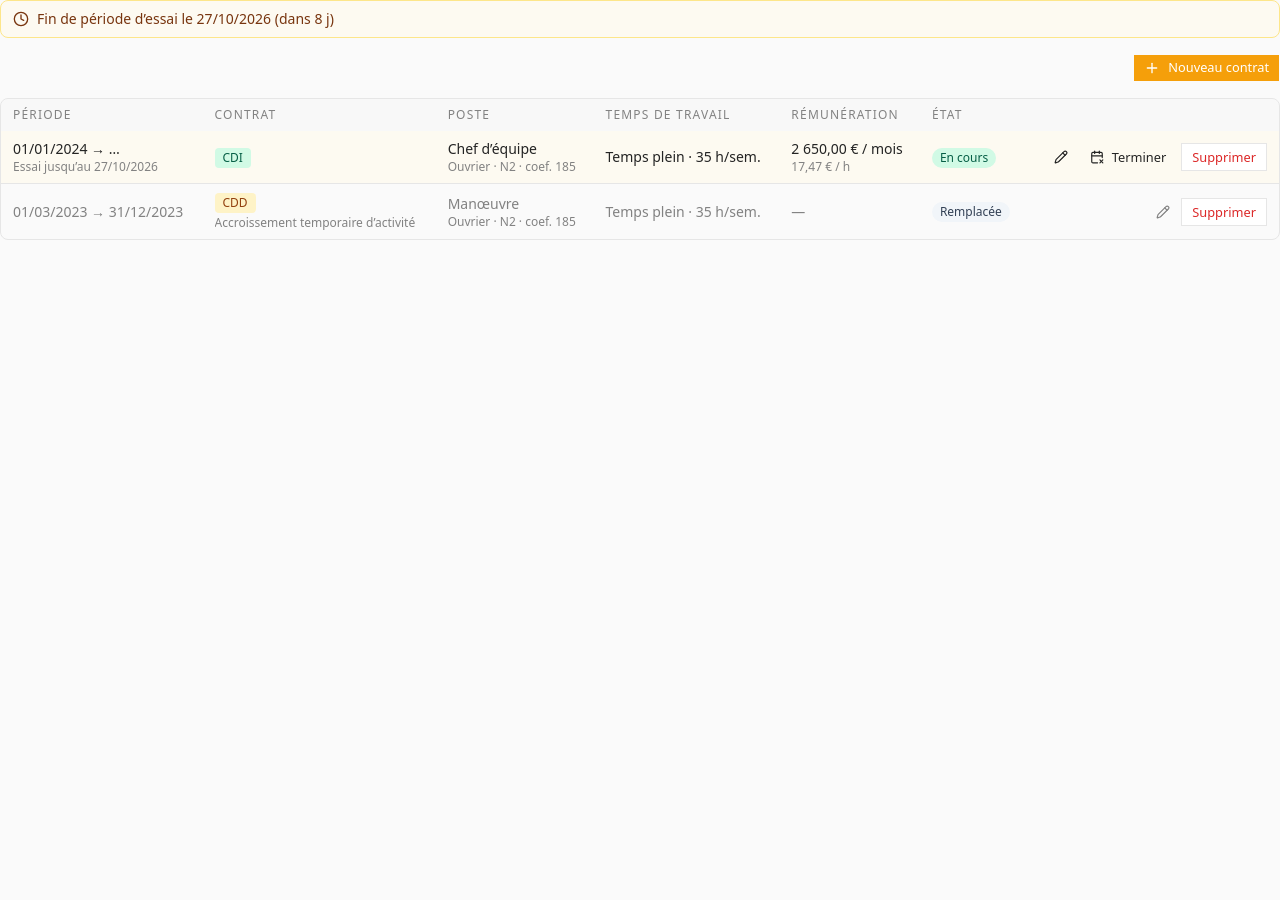
Scenario: ContratsSection › pré-remplit depuis la fiche RH
This screenshot has width=1280, height=900.
Click the button "Nouveau contrat".
click(1207, 68)  # box [1133, 54, 1279, 82]
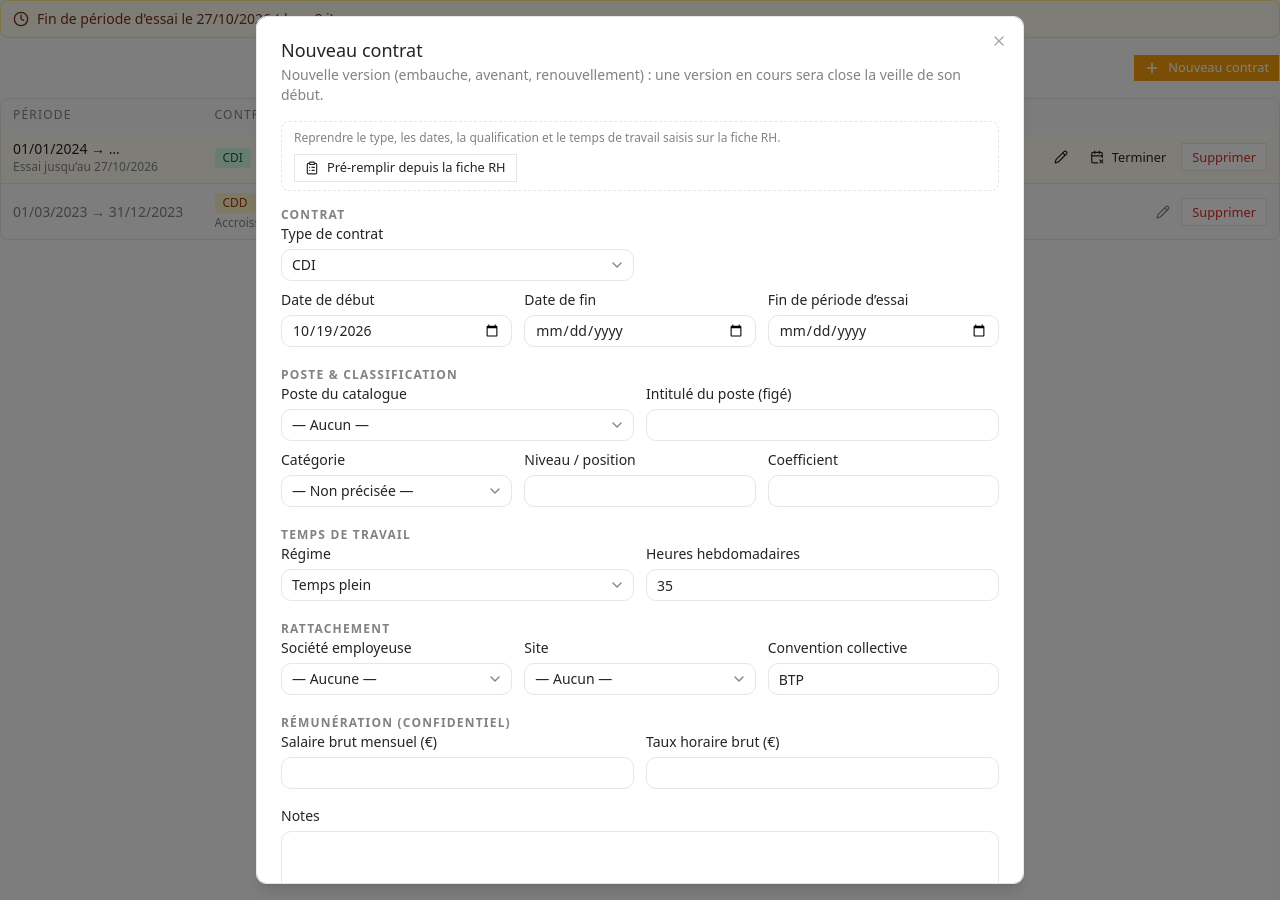
Click the button "Pré-remplir depuis la fiche RH".
click(405, 168)  # box [294, 154, 517, 182]
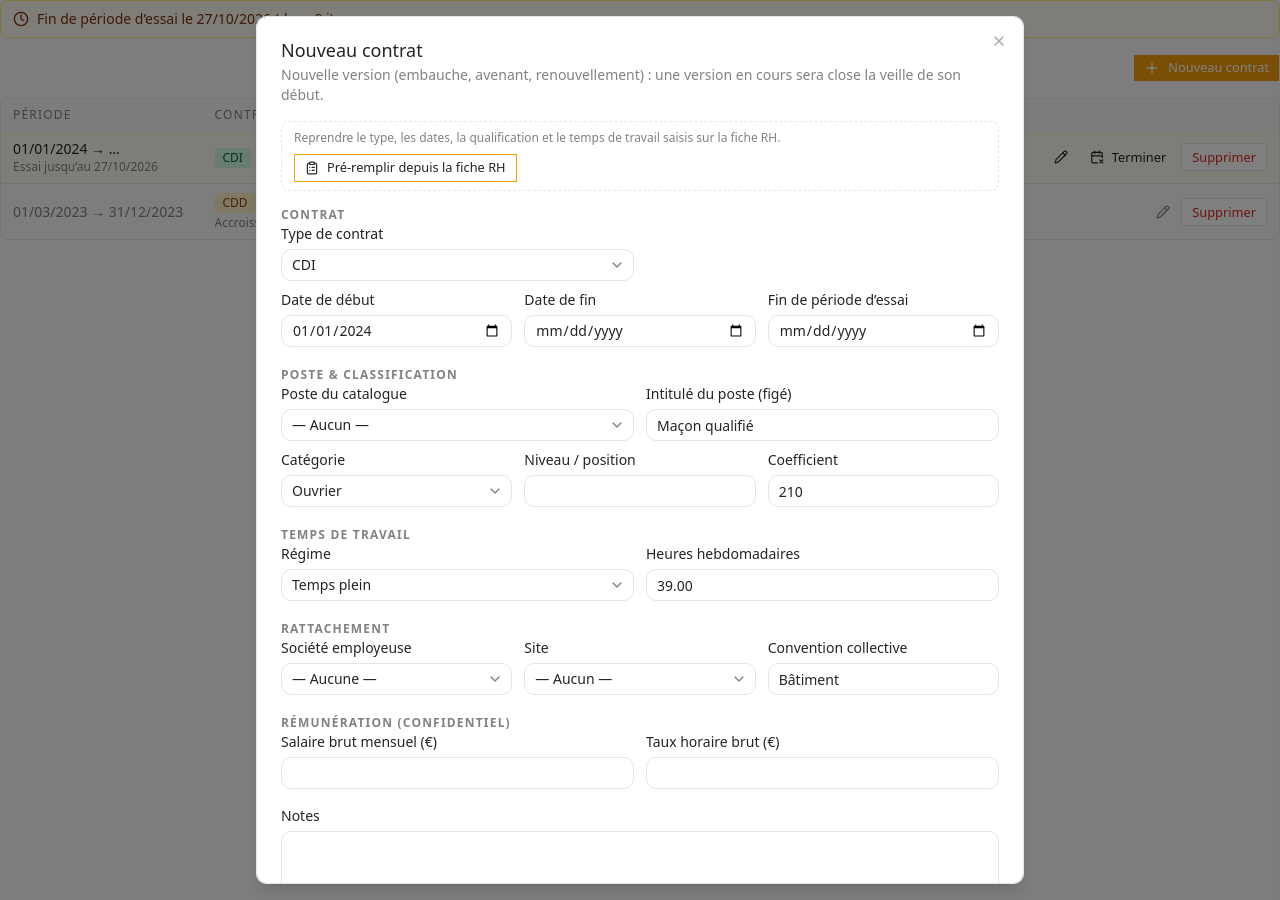
Check: the field labelled "Intitulé du poste (figé)" holds "Maçon qualifié", box [646, 409, 999, 441]
Check: the date field labelled "Date de début" holds "2024-01-01", box [281, 315, 512, 347]
Check: the field labelled "Heures hebdomadaires" holds "39.00", box [646, 569, 999, 601]
